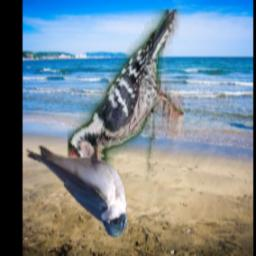Swallow: (24, 147, 127, 239)
Woodpecker: (69, 9, 185, 181)
